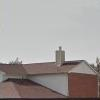Chimney: (50, 42, 65, 67)
